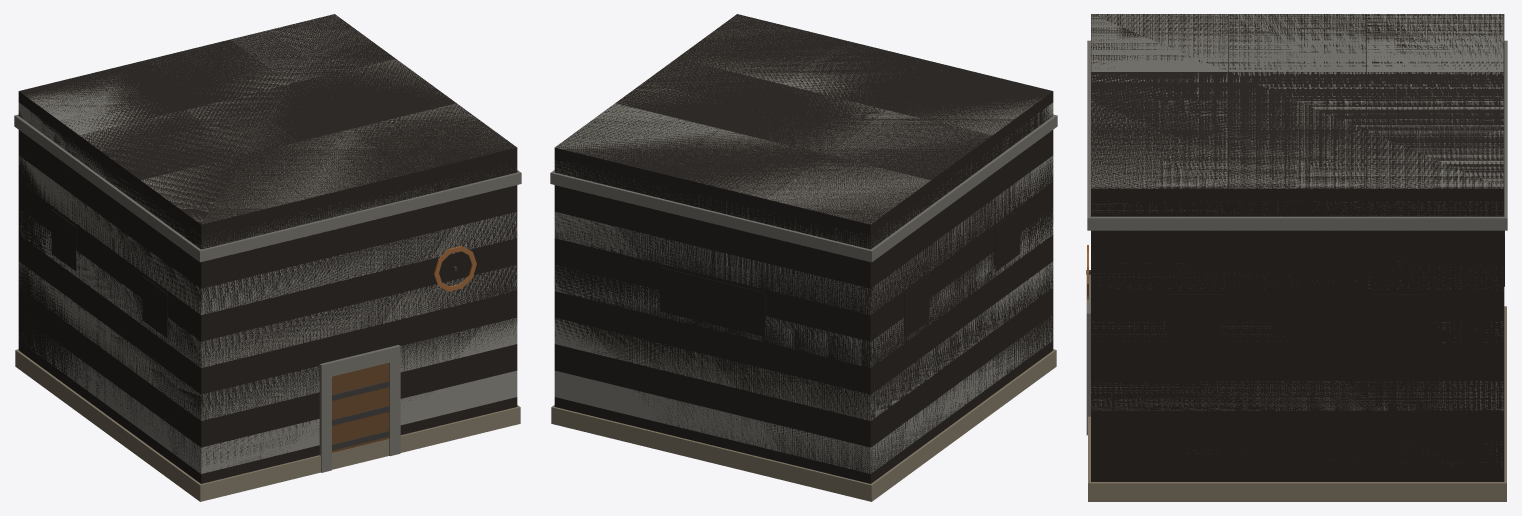
Rendered from weir_gatehouse.glb.
3 views of the same model, side by side, from view 1: azimuth 30°, elevation 25°; view 2: azimuth 150°, elevation 25°; view 3: azimuth 270°, elevation 25° (orthographic). The views are drawn at different scales.
Parts seen in each view (by area): view 1: weir_gatehouse-col-col, weir_gatehouse_body; view 2: weir_gatehouse-col-col, weir_gatehouse_body; view 3: weir_gatehouse-col-col, weir_gatehouse_body.
Part boxes in pixels (bbox=[...]): weir_gatehouse-col-col: bbox=[18, 14, 517, 483]; weir_gatehouse_body: bbox=[14, 14, 521, 501]; weir_gatehouse-col-col: bbox=[554, 14, 1053, 483]; weir_gatehouse_body: bbox=[550, 15, 1057, 501]; weir_gatehouse-col-col: bbox=[1091, 14, 1504, 481]; weir_gatehouse_body: bbox=[1086, 14, 1507, 501].
Size of the model in its own units: 12.2 by 10 by 12.23.
